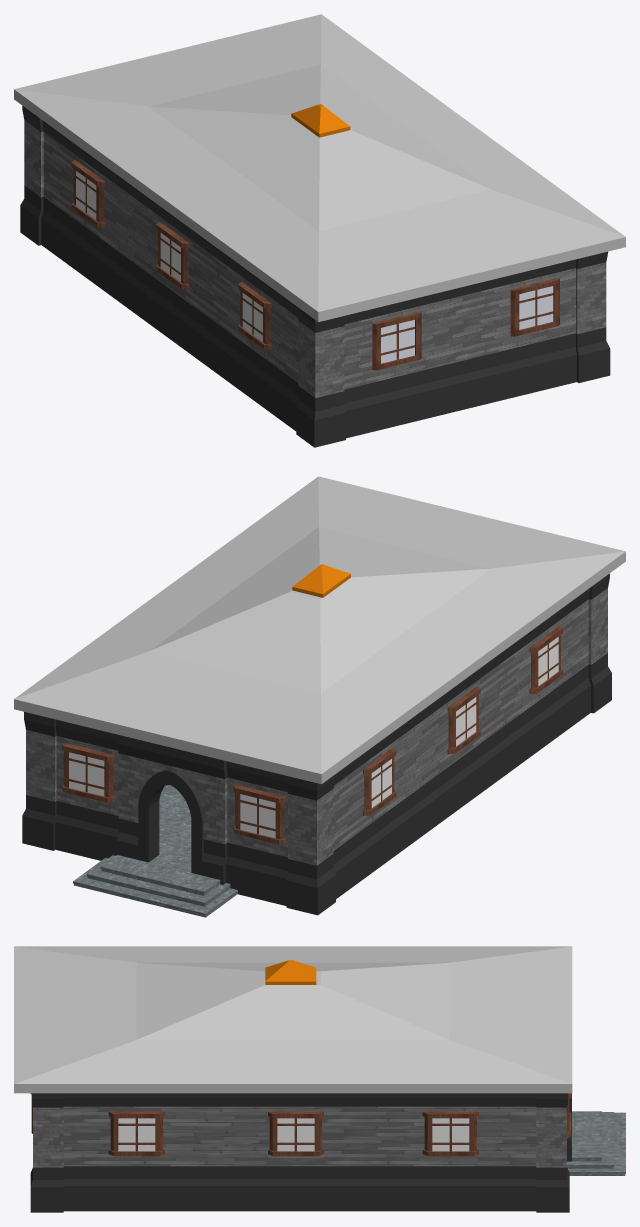
Rendered from Haus1VarTex.fbx.
3 renders of one model, top to bottom at view 1: azimuth 30°, elevation 25°; view 2: azimuth 150°, elevation 25°; view 3: azimuth 270°, elevation 25°, orthographic. The views are drawn at different scales.
Visible parts, largest first — view 1: mergedBlocks; view 2: mergedBlocks; view 3: mergedBlocks.
Part boxes in pixels (x1=…): mergedBlocks: x1=14, y1=14, x2=625, y2=447; mergedBlocks: x1=14, y1=476, x2=625, y2=917; mergedBlocks: x1=14, y1=946, x2=625, y2=1212.
Bounding box in the file's own units: 700 × 440 × 1316.
